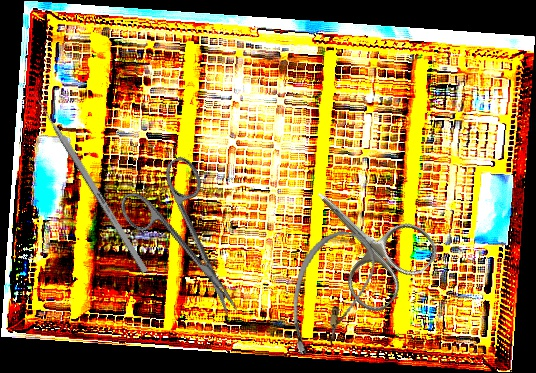Cannula: (281, 223, 381, 366)
Iris Scissors: (112, 152, 267, 336), (285, 159, 444, 319)
Pusher: (28, 88, 150, 274)
